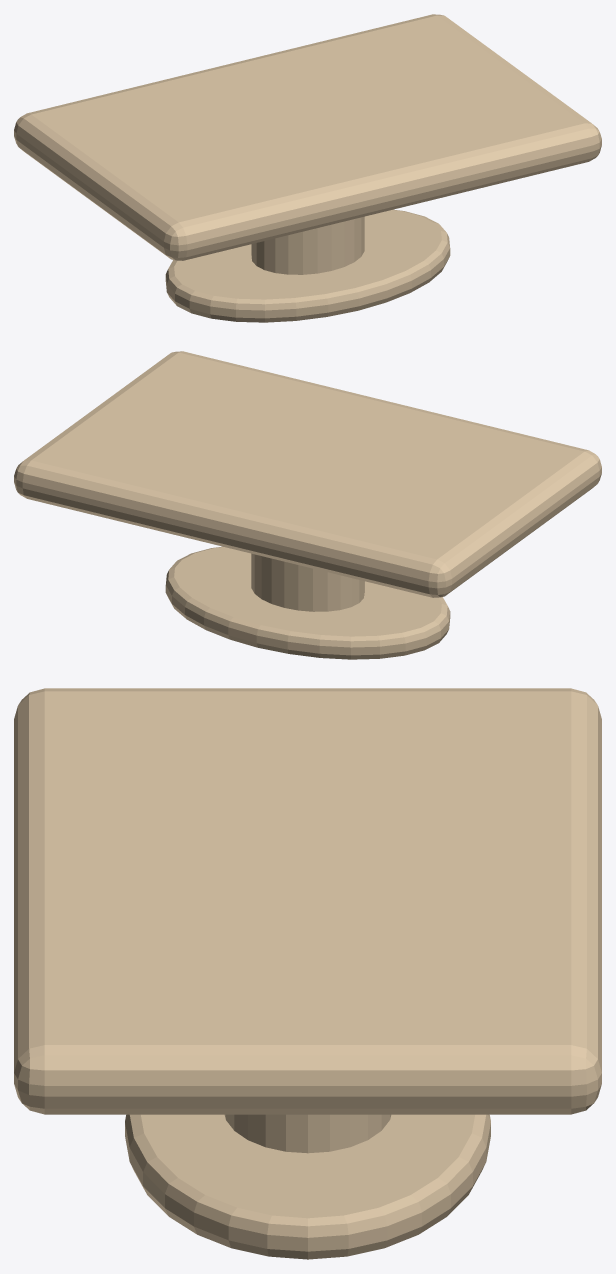
Rendered from table-pebble-painterly-v1.glb.
3 views of the same model, one above another, from view 1: azimuth 30°, elevation 25°; view 2: azimuth 150°, elevation 25°; view 3: azimuth 270°, elevation 25° (orthographic). The views are drawn at different scales.
Visible parts, largest first — view 1: HP_TABLE__Top, HP_TABLE__Foot, HP_TABLE__Pedestal; view 2: HP_TABLE__Top, HP_TABLE__Foot, HP_TABLE__Pedestal; view 3: HP_TABLE__Top, HP_TABLE__Foot, HP_TABLE__Pedestal.
Part boxes in pixels (x1=…): HP_TABLE__Top: x1=14, y1=14, x2=601, y2=260; HP_TABLE__Foot: x1=165, y1=209, x2=450, y2=322; HP_TABLE__Pedestal: x1=251, y1=216, x2=364, y2=274; HP_TABLE__Top: x1=14, y1=351, x2=601, y2=597; HP_TABLE__Foot: x1=165, y1=546, x2=450, y2=659; HP_TABLE__Pedestal: x1=251, y1=553, x2=364, y2=611; HP_TABLE__Top: x1=14, y1=688, x2=601, y2=1114; HP_TABLE__Foot: x1=125, y1=1114, x2=490, y2=1259; HP_TABLE__Pedestal: x1=224, y1=1114, x2=391, y2=1153.
Bounding box in the file's own units: 1.1 × 0.3801 × 0.7197.
